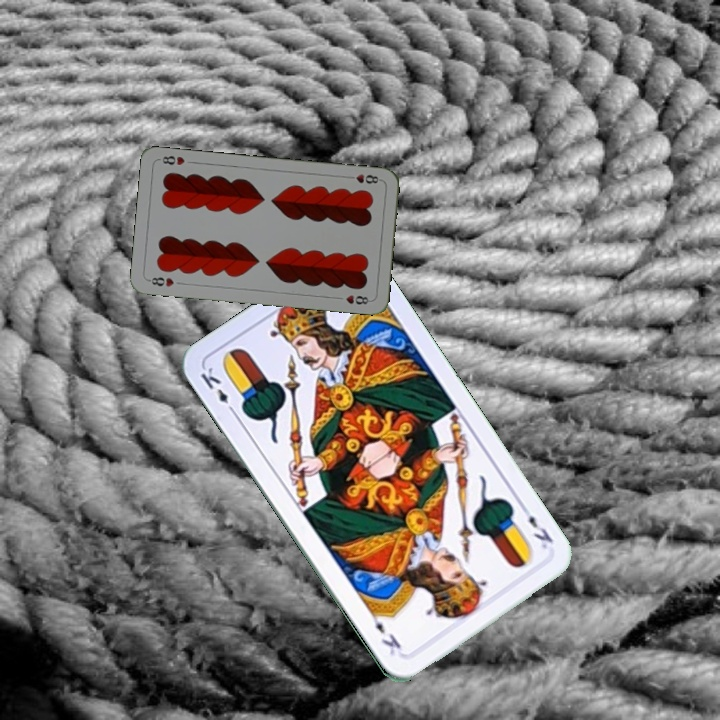EK: (196, 363, 239, 417), (517, 501, 556, 552)
H8: (343, 170, 384, 186), (144, 273, 177, 289)
